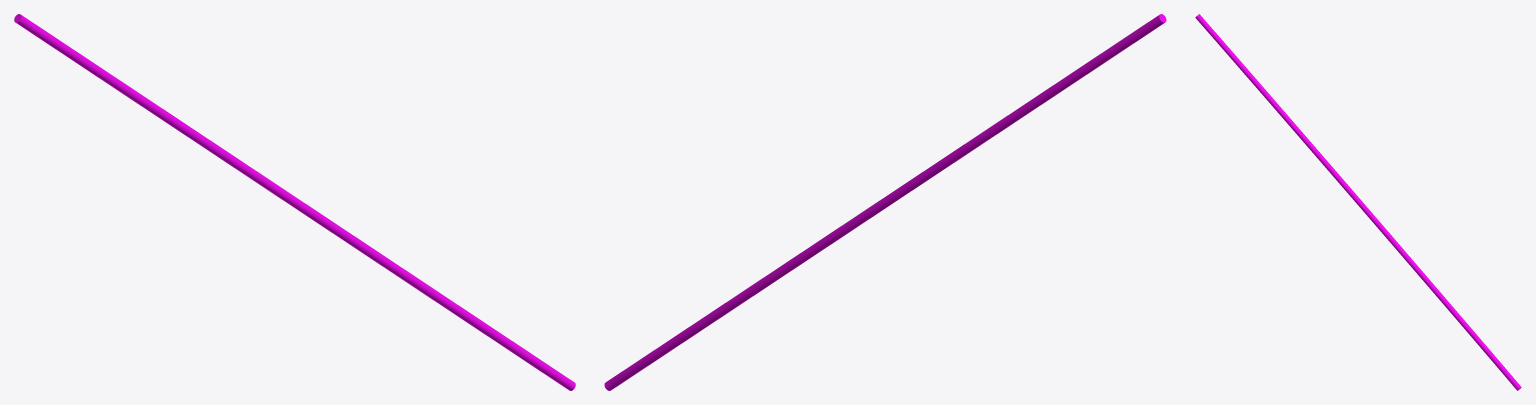
File: Event_420604493_electron_0.fbx
The picture shows the model from 3 angles, left to right: view 1: azimuth 30°, elevation 25°; view 2: azimuth 150°, elevation 25°; view 3: azimuth 330°, elevation 25°; orthographic projection. The views are drawn at different scales.
Parts seen in each view (by area): view 1: Model; view 2: Model; view 3: Model.
Part boxes in pixels (x1,y1,x2,y2): Model: [14, 14, 575, 390]; Model: [604, 14, 1166, 390]; Model: [1195, 14, 1521, 390].
Size of the model in its own units: 2.66 by 2.32 by 0.0578.
